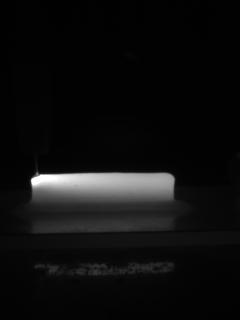tip_wire_left: (23, 151, 39, 175)
tip_wire_right: (35, 151, 48, 175)
